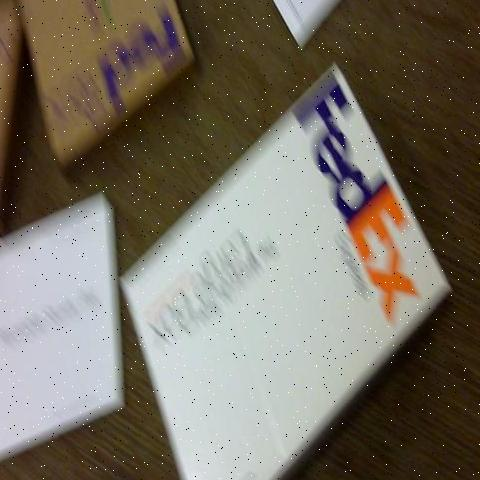Amazon: (135, 74, 447, 480), (33, 0, 185, 147)
